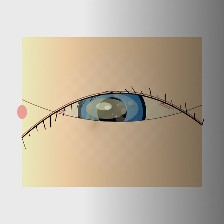corneal_ulcer: (73, 82, 140, 135)
